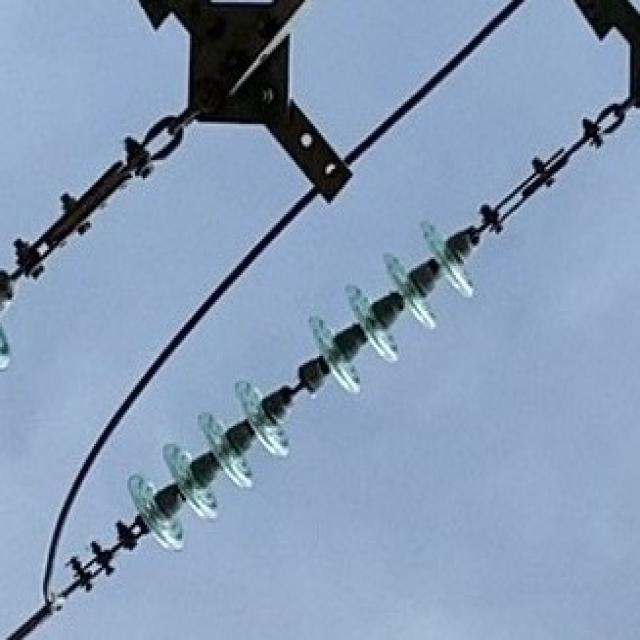正常绝缘子: (66, 198, 506, 595)
绝缘子破损: (278, 352, 317, 411)
